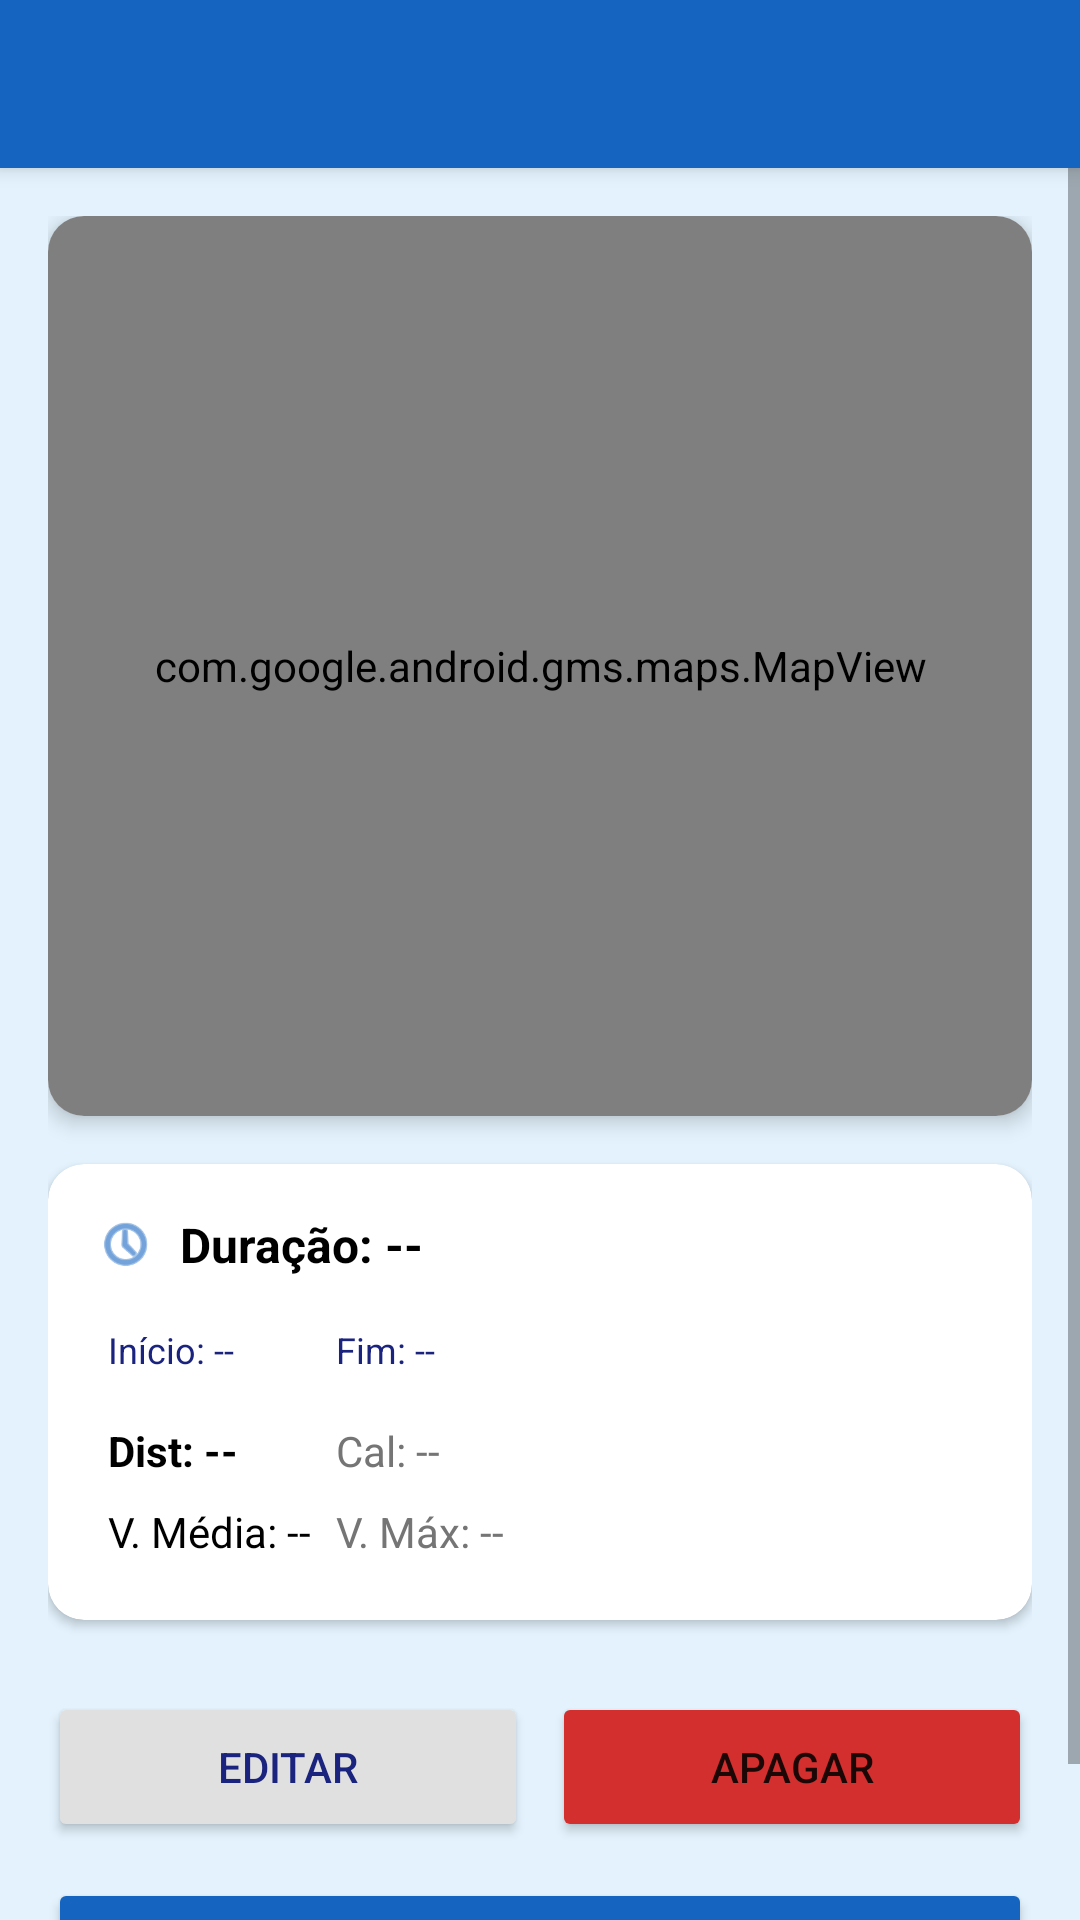

Named icons in this screenshot (1080x1920) and their centers, (x=x, y=y):
recent history: (x=125, y=1244)
